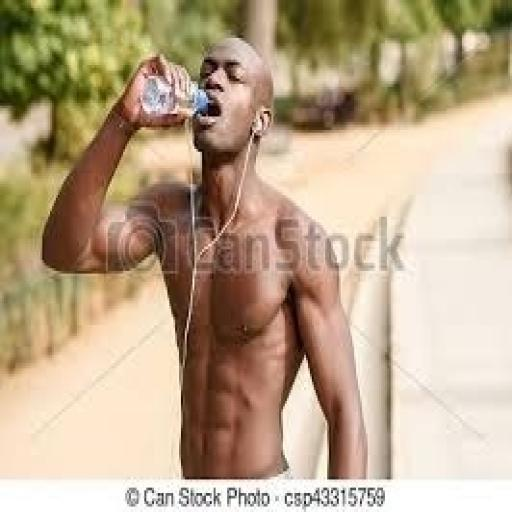drinking: (138, 0, 288, 119)
